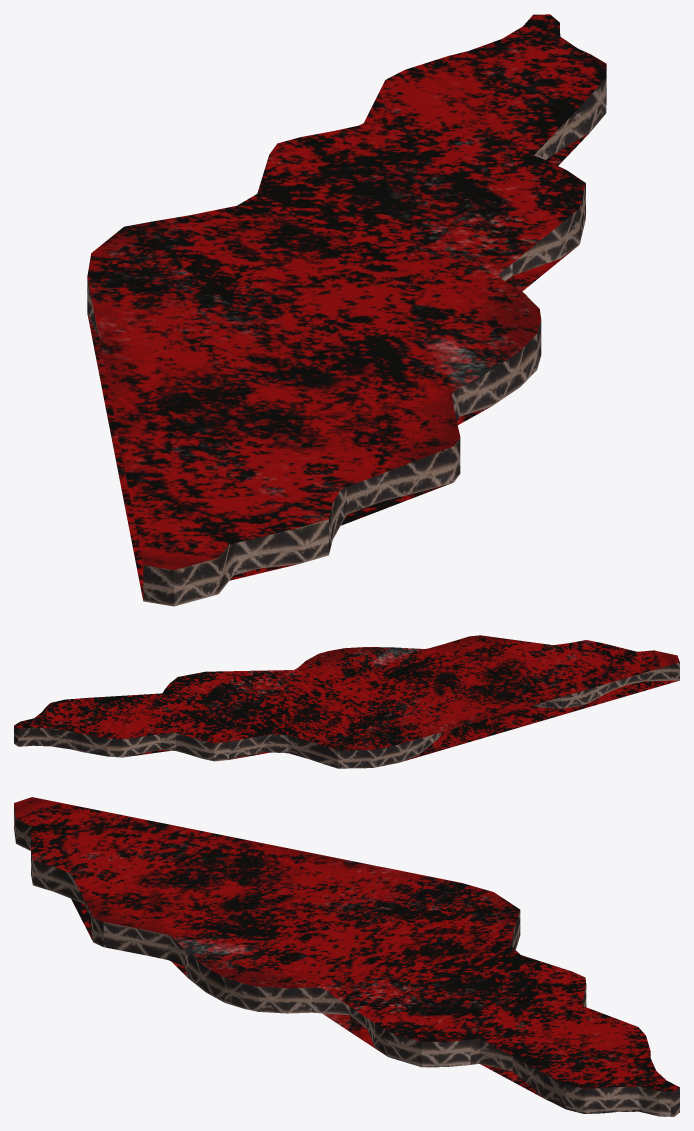
Rendered from MagmaWave.fbx.
3 renders of one model, top to bottom at view 1: azimuth 30°, elevation 25°; view 2: azimuth 150°, elevation 25°; view 3: azimuth 270°, elevation 25°, orthographic. The views are drawn at different scales.
Visible parts, largest first — view 1: Plane.001; view 2: Plane.001; view 3: Plane.001.
Part boxes in pixels (x1,y1,x2,y2): Plane.001: (87, 14, 606, 606); Plane.001: (14, 635, 679, 768); Plane.001: (14, 797, 679, 1116).
Size of the model in its own units: 195 by 7.77 by 186.
